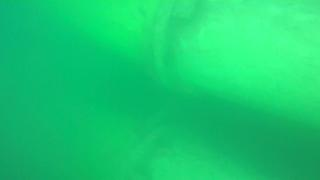pipe: (62, 1, 318, 128), (14, 87, 265, 180)
